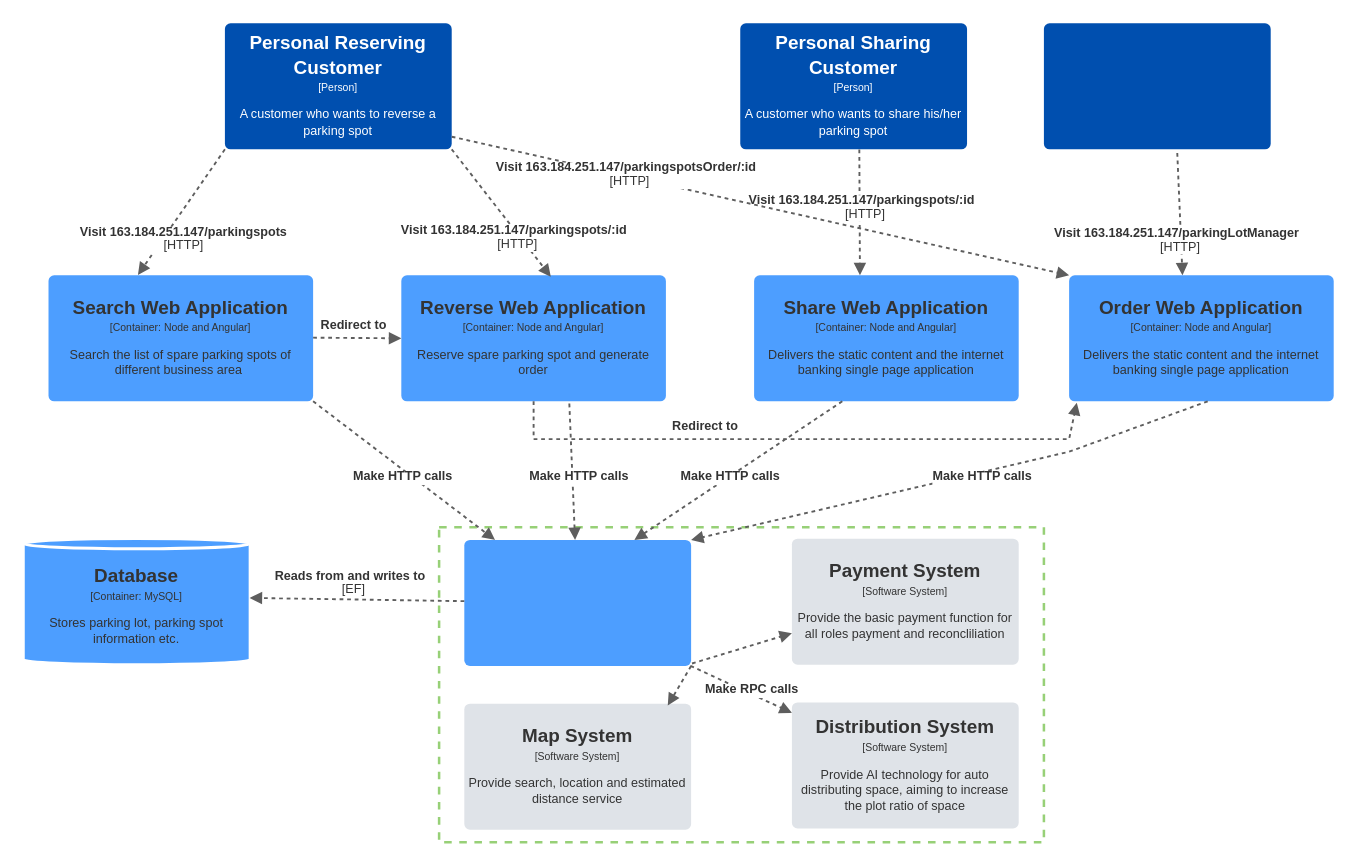
This 1357x866 diagram has some shape labels left out. The shapes that lost their labels are listed below. From the top down, each one's centre as x and y in pixels, then its label:
At (1157,85): "The Guard [Person] The guard helps to check in or check out the order".
At (577,602): "API Application [Container: .Net ] Provide core function by RESTful API".
